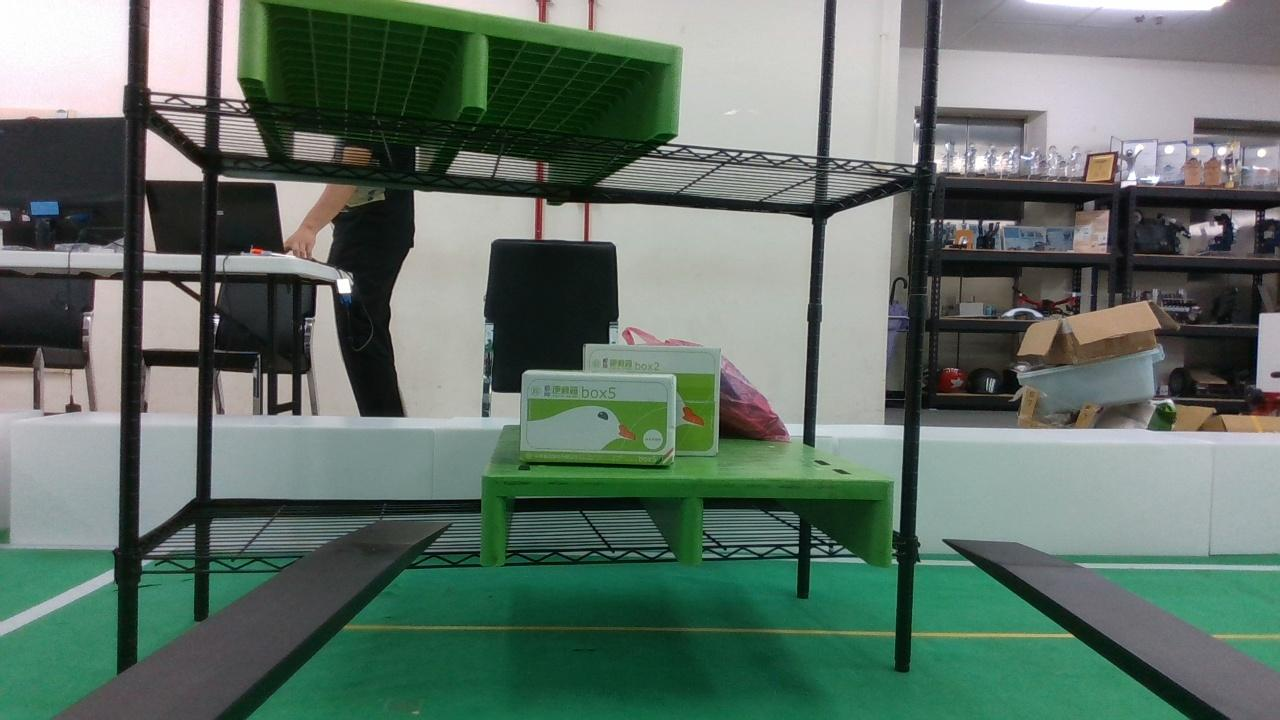Pallet: (234, 0, 688, 136), (479, 476, 900, 577)
